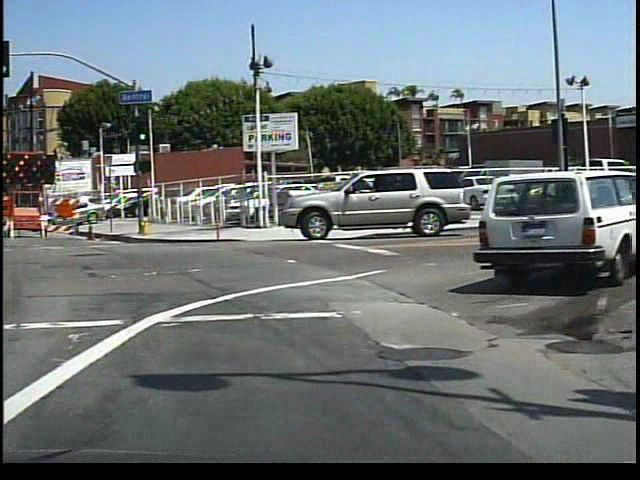person: (568, 162, 588, 205)
